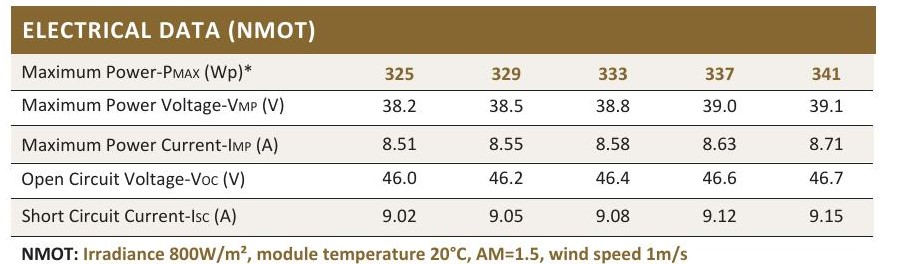table: (3, 47, 895, 245)
table column: (20, 53, 322, 240), (347, 52, 444, 241), (786, 51, 867, 236), (469, 51, 546, 241), (685, 52, 764, 237), (581, 55, 657, 240)
table row: (11, 129, 877, 161), (14, 57, 873, 88), (13, 167, 876, 197), (13, 204, 876, 234), (12, 93, 874, 123)
